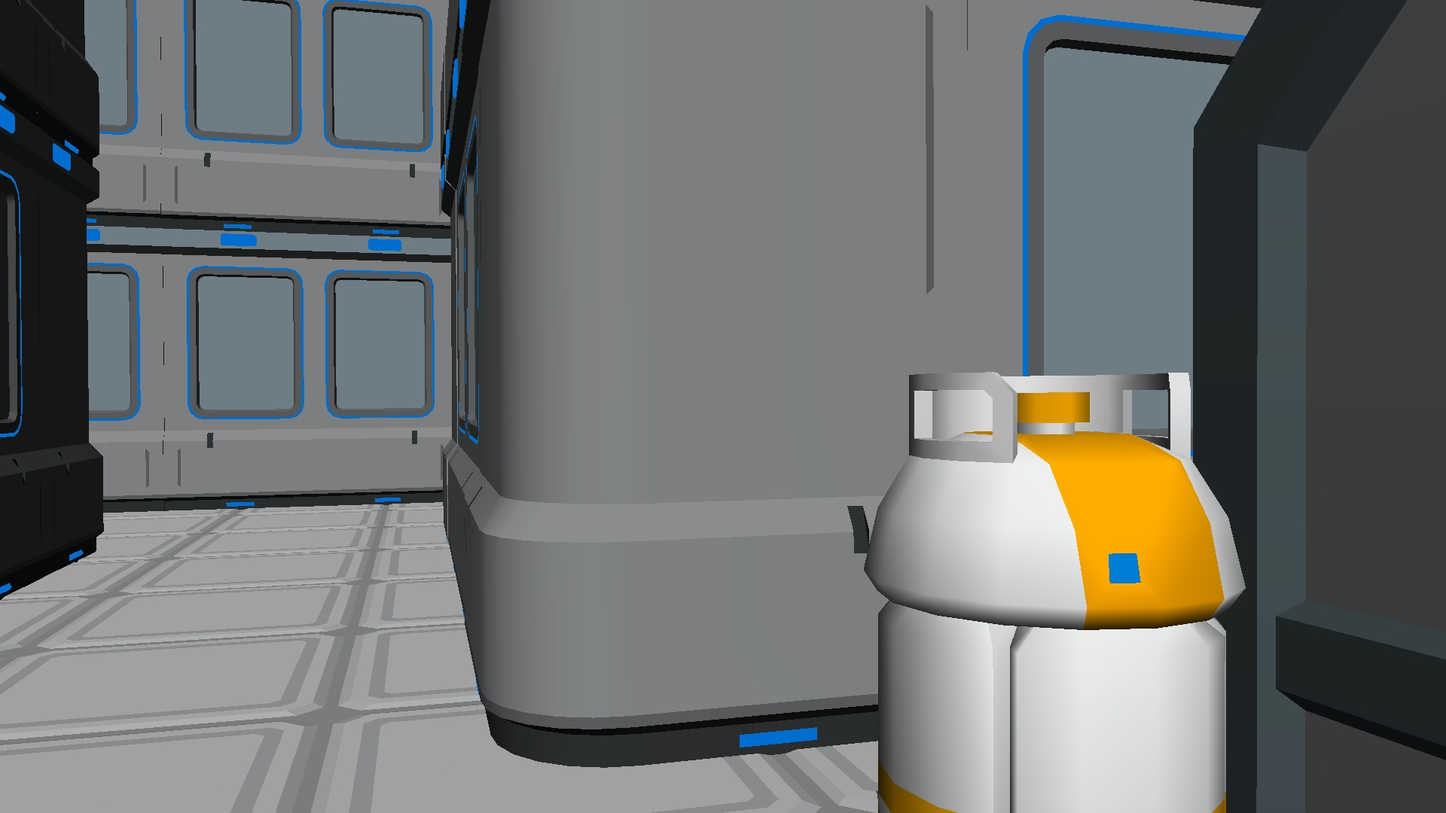yellow barrel: (847, 371, 1246, 813)
